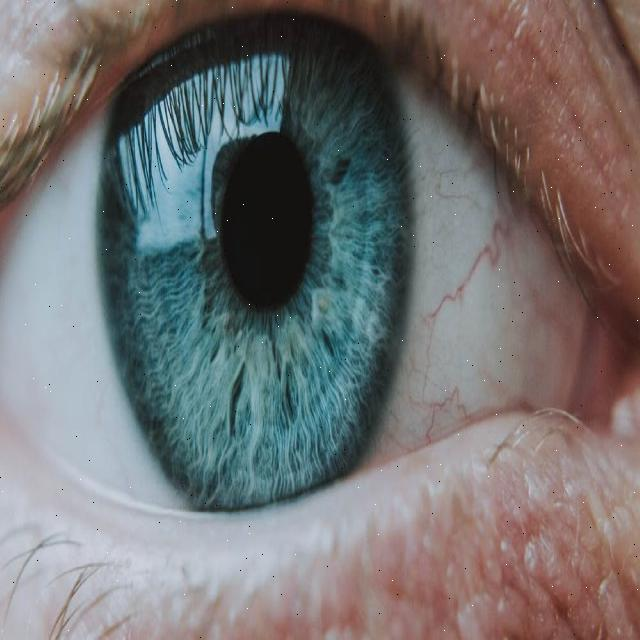Normal: (93, 0, 412, 532)
